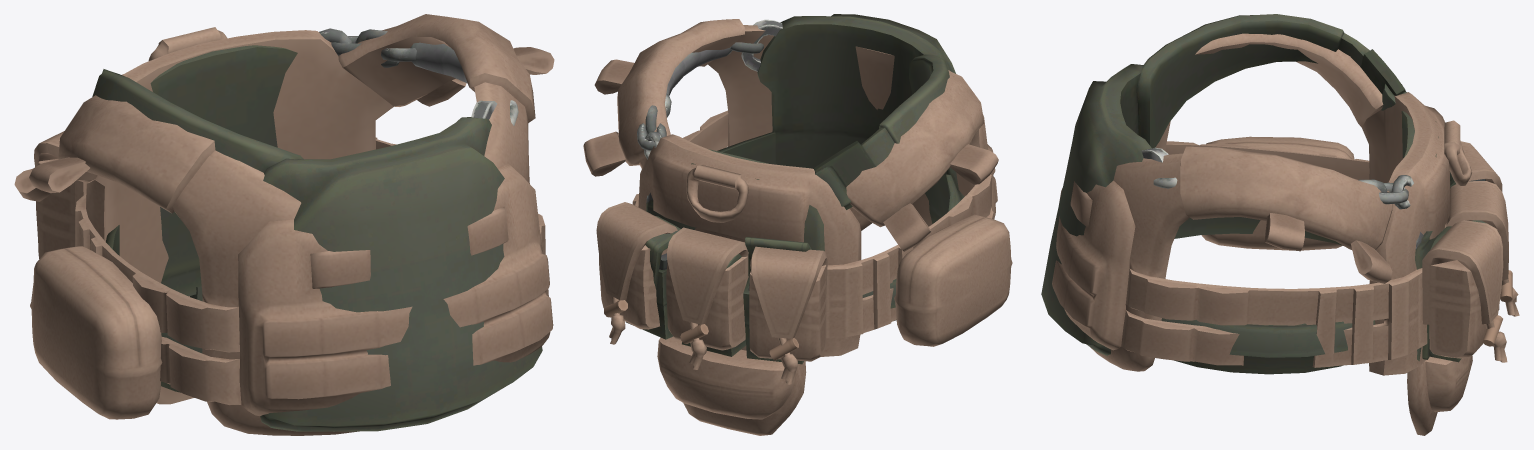
Rendered from IG_Armor_Lv5_Tagilla.fbx.
3 views of the same model, side by side, from view 1: azimuth 30°, elevation 25°; view 2: azimuth 150°, elevation 25°; view 3: azimuth 270°, elevation 25° (orthographic). The views are drawn at different scales.
Parts seen in each view (by area): view 1: Clothes_LV5_2, Clothes_Tagilla; view 2: Clothes_LV5_2, Clothes_Tagilla; view 3: Clothes_LV5_2, Clothes_Tagilla.
Part boxes in pixels (<box>): Clothes_LV5_2: <box>14,14,554,435</box>; Clothes_Tagilla: <box>92,28,542,431</box>; Clothes_LV5_2: <box>583,19,1012,435</box>; Clothes_Tagilla: <box>626,14,964,364</box>; Clothes_LV5_2: <box>1052,33,1519,435</box>; Clothes_Tagilla: <box>1041,14,1492,374</box>.
Bounding box in the file's own units: 0.8083 × 0.6235 × 0.7966.
